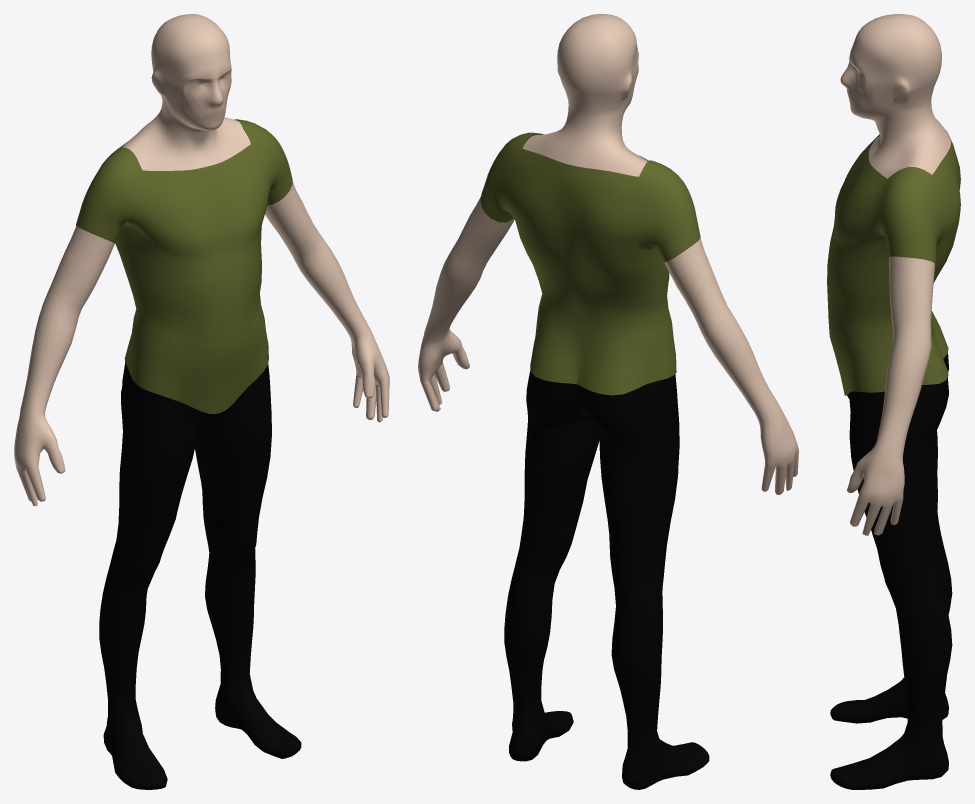
Rendered from Normal_Dusman_Model_2.fbx.
The picture shows the model from 3 angles, left to right: view 1: azimuth 30°, elevation 25°; view 2: azimuth 150°, elevation 25°; view 3: azimuth 270°, elevation 25°; orthographic projection.
Visible parts, largest first — view 1: HumanBody:HumanBody:polySurface4; view 2: HumanBody:HumanBody:polySurface4; view 3: HumanBody:HumanBody:polySurface4.
Part boxes in pixels (x1,y1,x2,y2): HumanBody:HumanBody:polySurface4: (14, 14, 389, 789); HumanBody:HumanBody:polySurface4: (418, 14, 798, 789); HumanBody:HumanBody:polySurface4: (827, 14, 960, 789).
Bounding box in the file's own units: 96.26 × 184 × 30.38.
